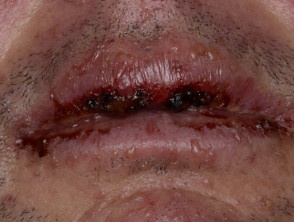SJS-TEN: (5, 14, 294, 204)
